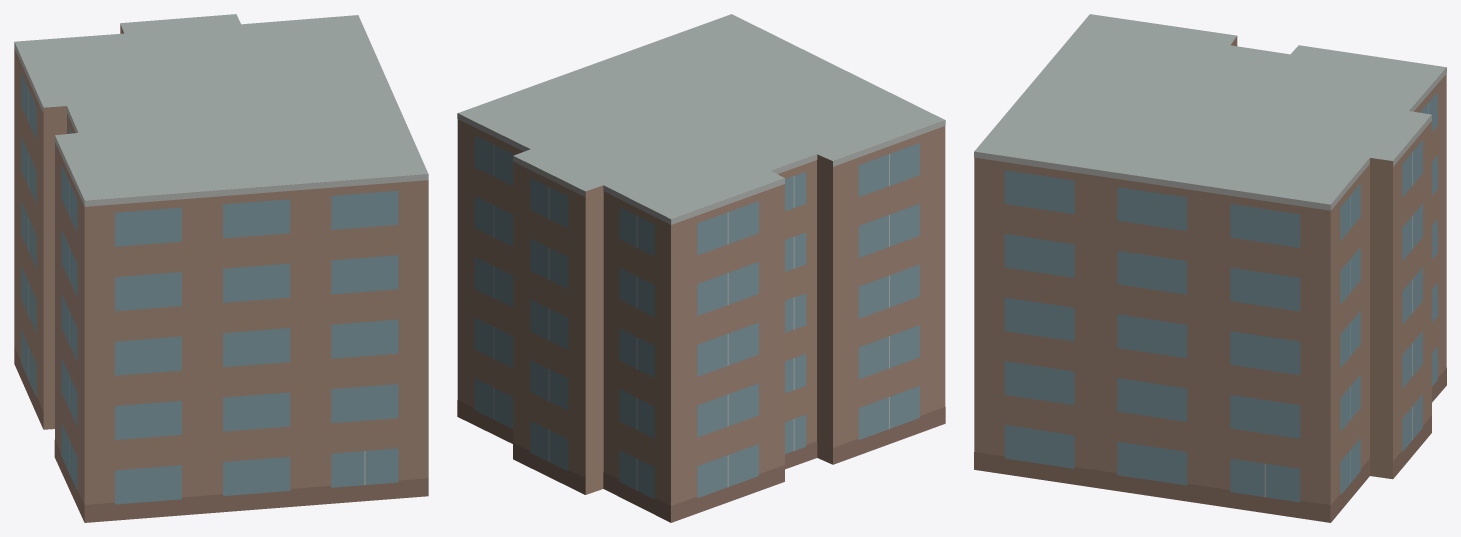
Rendered from survey-upis-32886028.glb.
3 renders of one model, left to right at view 1: azimuth 30°, elevation 25°; view 2: azimuth 150°, elevation 25°; view 3: azimuth 270°, elevation 25°, orthographic. The views are drawn at different scales.
Visible parts, largest first — view 1: survey-upis-32886028.tmp; view 2: survey-upis-32886028.tmp; view 3: survey-upis-32886028.tmp.
Part boxes in pixels (box(x1,y1,x2,y2)): survey-upis-32886028.tmp: box(14, 14, 428, 522); survey-upis-32886028.tmp: box(457, 14, 945, 522); survey-upis-32886028.tmp: box(974, 14, 1446, 522).
Bounding box in the file's own units: 16.59 × 12.9 × 17.38.
